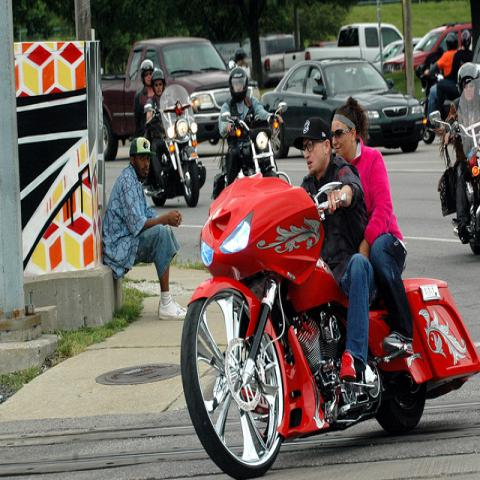car: (261, 55, 429, 159), (100, 38, 230, 162), (384, 18, 474, 86), (240, 32, 299, 83), (376, 22, 422, 80)
motorcycle: (181, 174, 480, 478), (427, 76, 479, 259), (142, 82, 209, 209), (212, 102, 292, 200), (420, 73, 452, 144)
truck: (100, 31, 229, 164), (283, 21, 404, 75)
